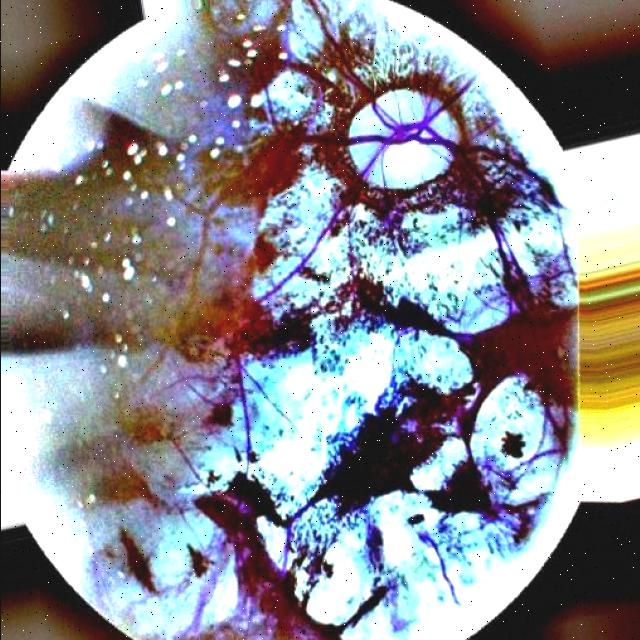Optic Disk: (349, 91, 459, 189)
